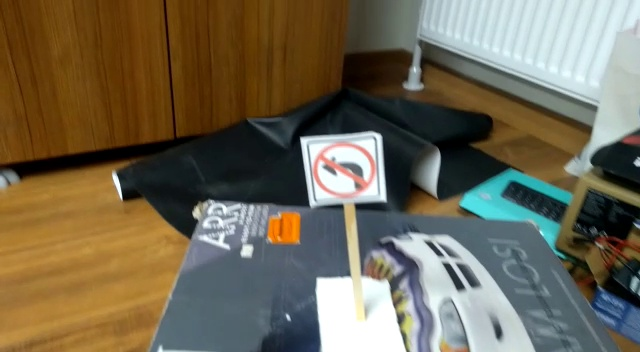sola_donulmez: (316, 136, 374, 207)
